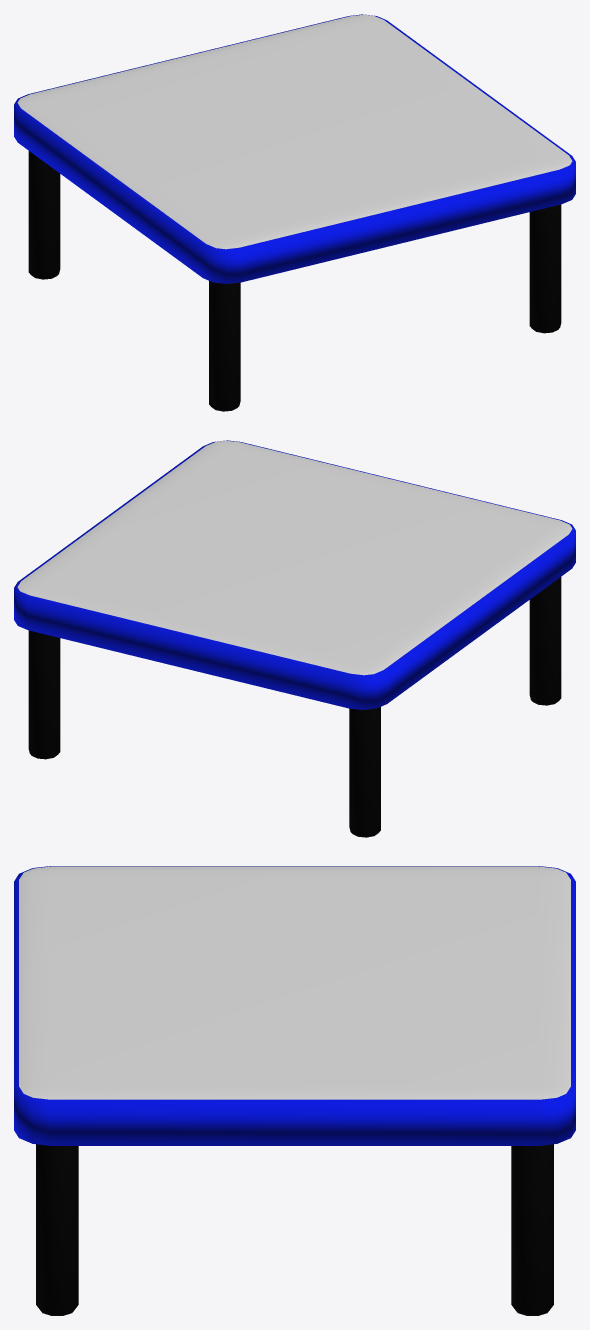
The model's file is table.gltf.
3 renders of one model, top to bottom at view 1: azimuth 30°, elevation 25°; view 2: azimuth 150°, elevation 25°; view 3: azimuth 270°, elevation 25°, orthographic. The views are drawn at different scales.
Parts seen in each view (by area): view 1: Table; view 2: Table; view 3: Table.
Part boxes in pixels (<box>): Table: <box>14,14,575,411</box>; Table: <box>14,440,575,837</box>; Table: <box>14,866,575,1315</box>.
Bounding box in the file's own units: 0.842 × 0.3702 × 0.842.
